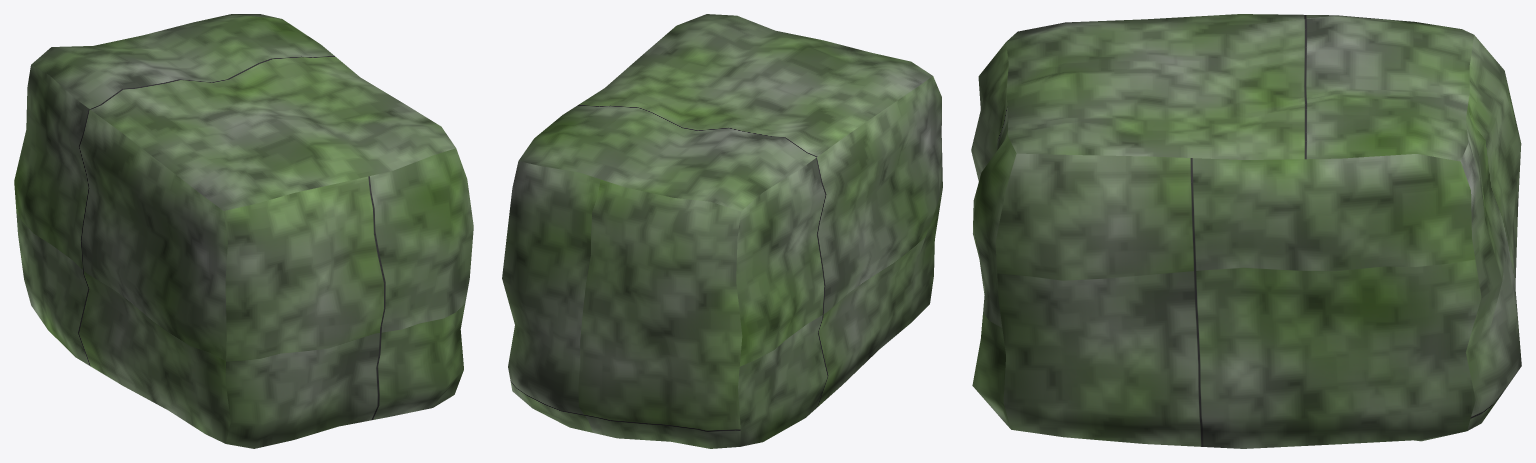
Rendered from Block(2x2).fbx.
3 views of the same model, side by side, from view 1: azimuth 30°, elevation 25°; view 2: azimuth 150°, elevation 25°; view 3: azimuth 270°, elevation 25° (orthographic). The views are drawn at different scales.
Visible parts, largest first — view 1: Cube; view 2: Cube; view 3: Cube.
Part boxes in pixels (x1,y1,x2,y2): Cube: [14, 14, 473, 448]; Cube: [502, 14, 942, 448]; Cube: [971, 14, 1521, 448].
Size of the model in its own units: 2.15 by 2.15 by 3.21.
